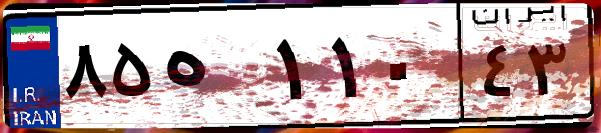0: (385, 28, 445, 110)
1: (270, 28, 330, 110), (330, 28, 385, 110)
3: (525, 38, 570, 115)
4: (475, 38, 525, 113)
5: (110, 28, 158, 98)
8: (57, 26, 110, 100)
ه: (158, 20, 270, 120)
